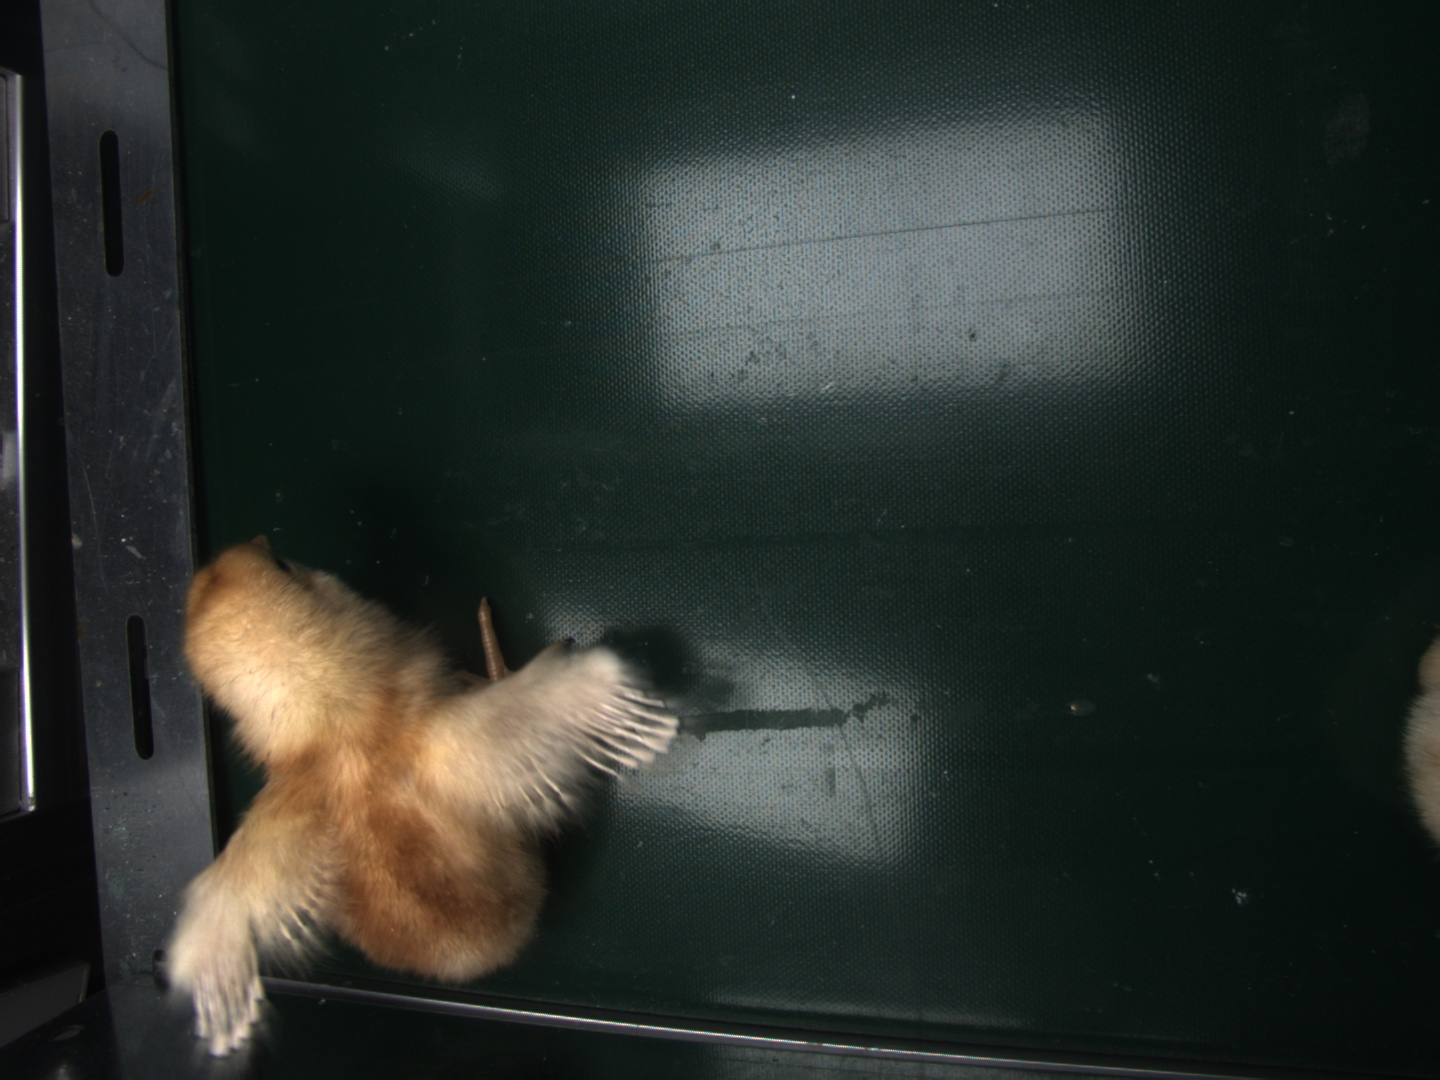female: (583, 687, 674, 770)
